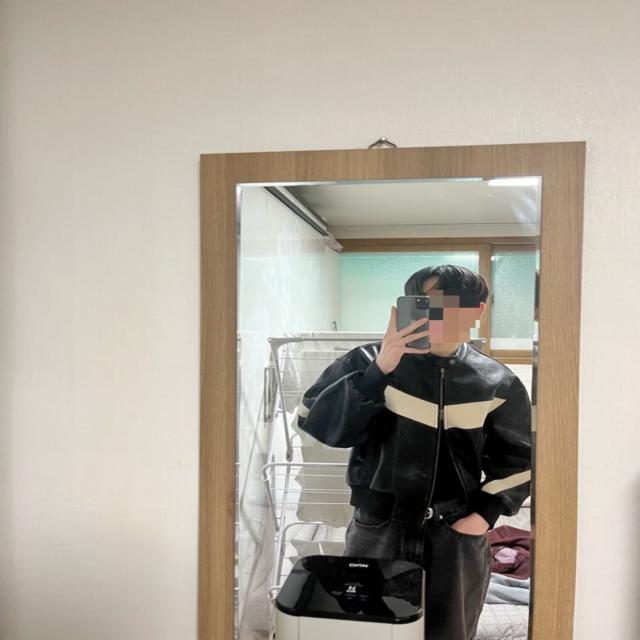denimpants: (346, 492, 493, 640)
jacket: (298, 336, 532, 524)
